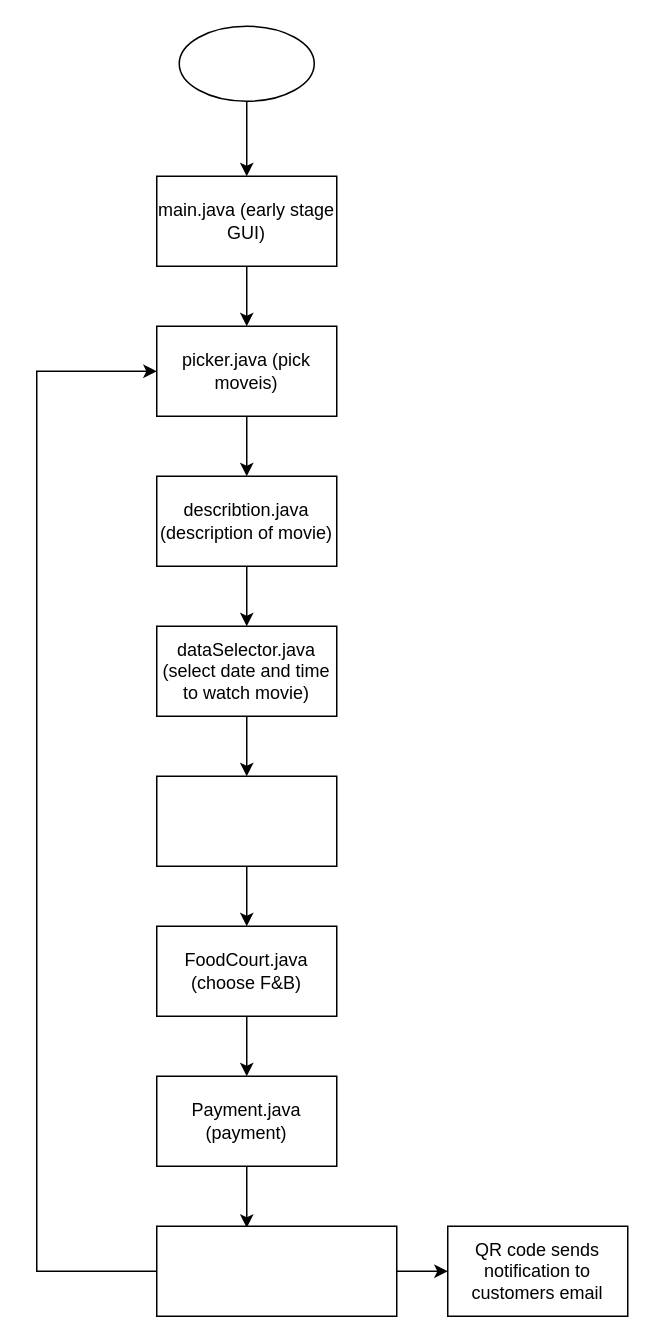
Image size: 654x1343. Some labels were removed from this diagram. The centre of each missing label's shape, as x and y in pixels:
JavaFX_QRCodeWriter.java (scan QR code for ticket and notification): the point at 276,1270
seat.java (choose seating): the point at 246,820
Start from loginandsignup: the point at 246,63
